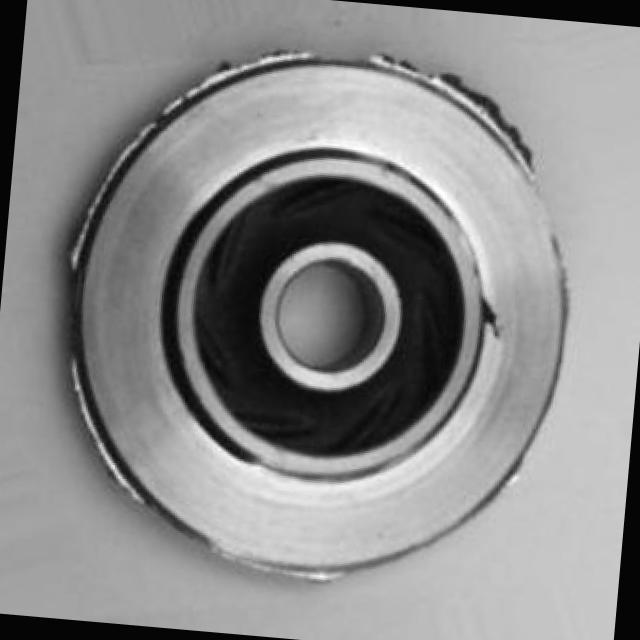Defect: (424, 64, 526, 131)
